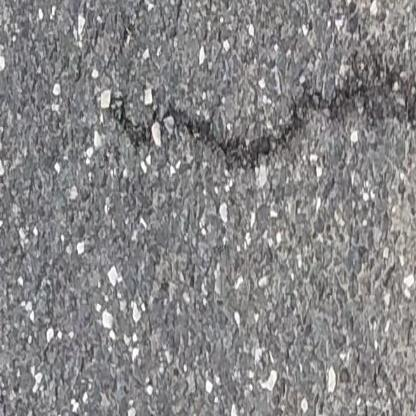Cracks: (172, 89, 370, 166)
